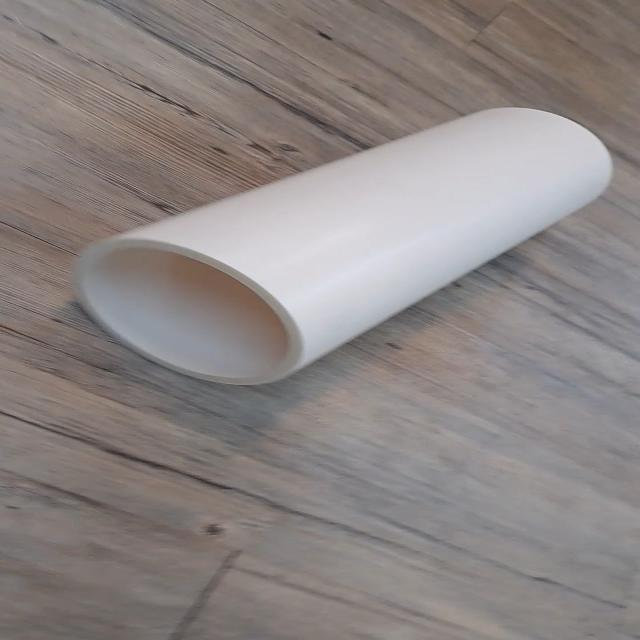CORAL: (72, 95, 618, 381)
